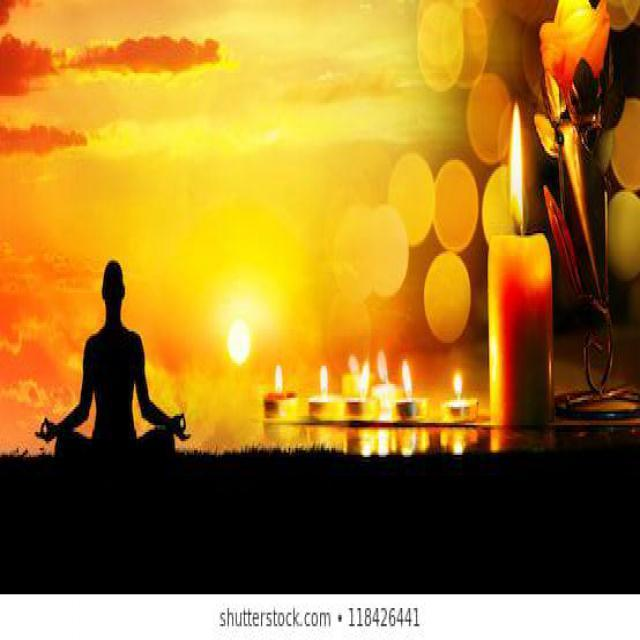Fire: (510, 102, 524, 234), (401, 356, 412, 398), (376, 350, 388, 386), (452, 370, 463, 400), (360, 361, 369, 396), (276, 362, 284, 397), (321, 364, 328, 399)
